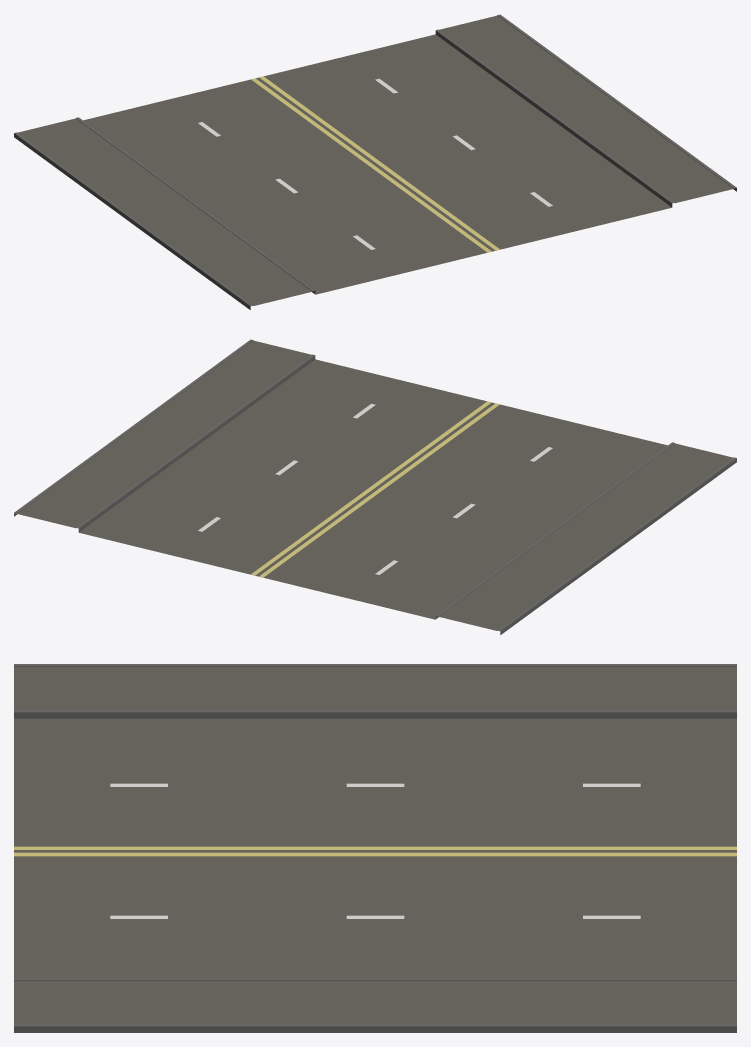
File: StraightRoadTile.fbx
The picture shows the model from 3 angles, top to bottom: view 1: azimuth 30°, elevation 25°; view 2: azimuth 150°, elevation 25°; view 3: azimuth 270°, elevation 25°; orthographic projection. The views are drawn at different scales.
Visible parts, largest first — view 1: Plane; view 2: Plane; view 3: Plane.
Part boxes in pixels (bbox=[...]): Plane: bbox=[14, 14, 736, 309]; Plane: bbox=[14, 339, 736, 634]; Plane: bbox=[14, 664, 736, 1032].
Size of the model in its own units: 2977 by 24.61 by 2511.
